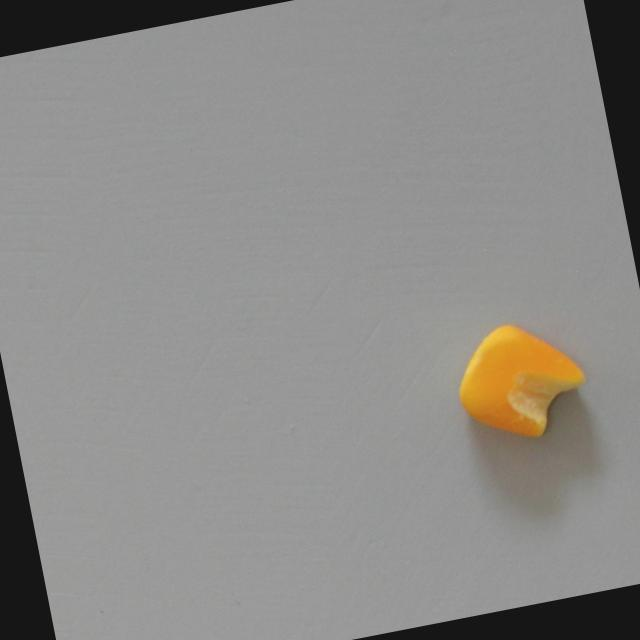no_canjicado: (444, 311, 596, 453)
